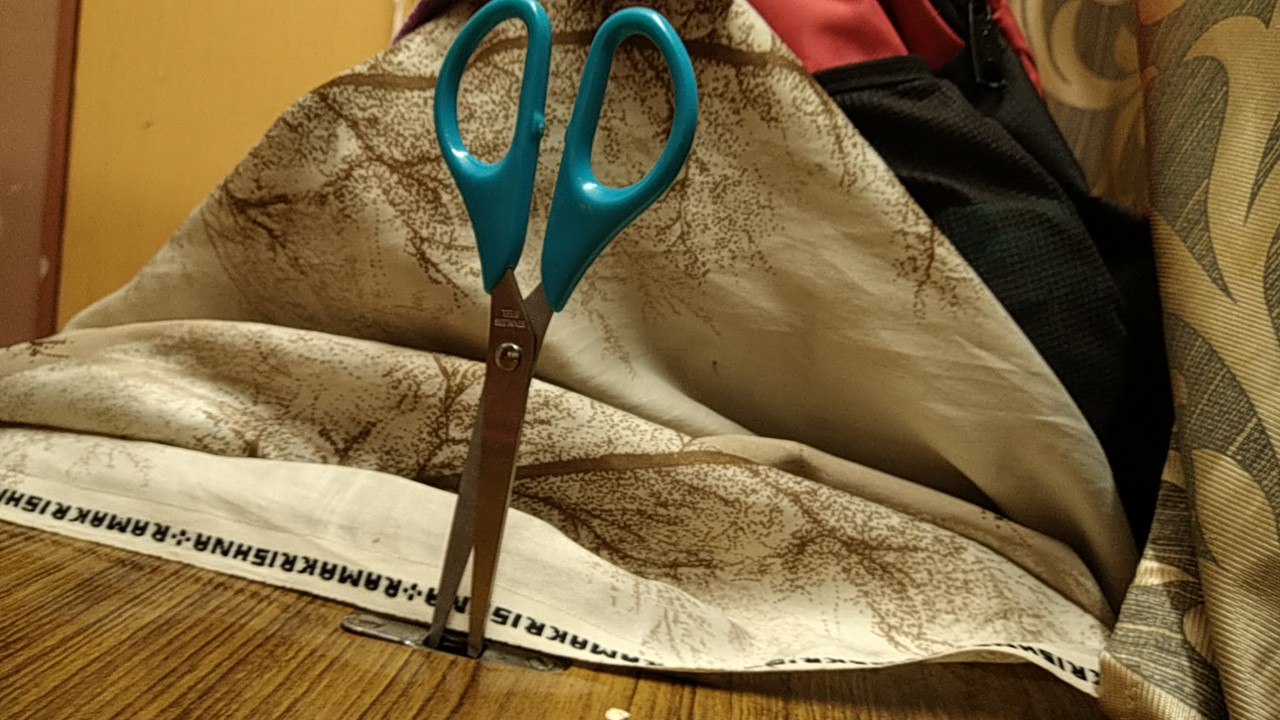scissor: (379, 1, 706, 673)
